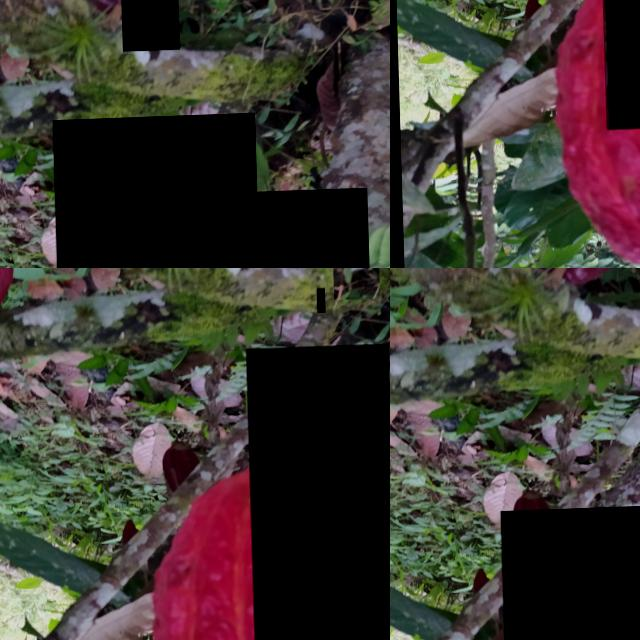Fitoftora: (245, 346, 390, 640)
Sana: (52, 115, 262, 268), (498, 506, 640, 640), (205, 191, 372, 268), (82, 404, 150, 590), (236, 330, 289, 463), (121, 0, 179, 53), (341, 594, 386, 640), (331, 268, 379, 302), (67, 574, 86, 619), (10, 569, 27, 600), (255, 302, 276, 321), (316, 291, 325, 316)
